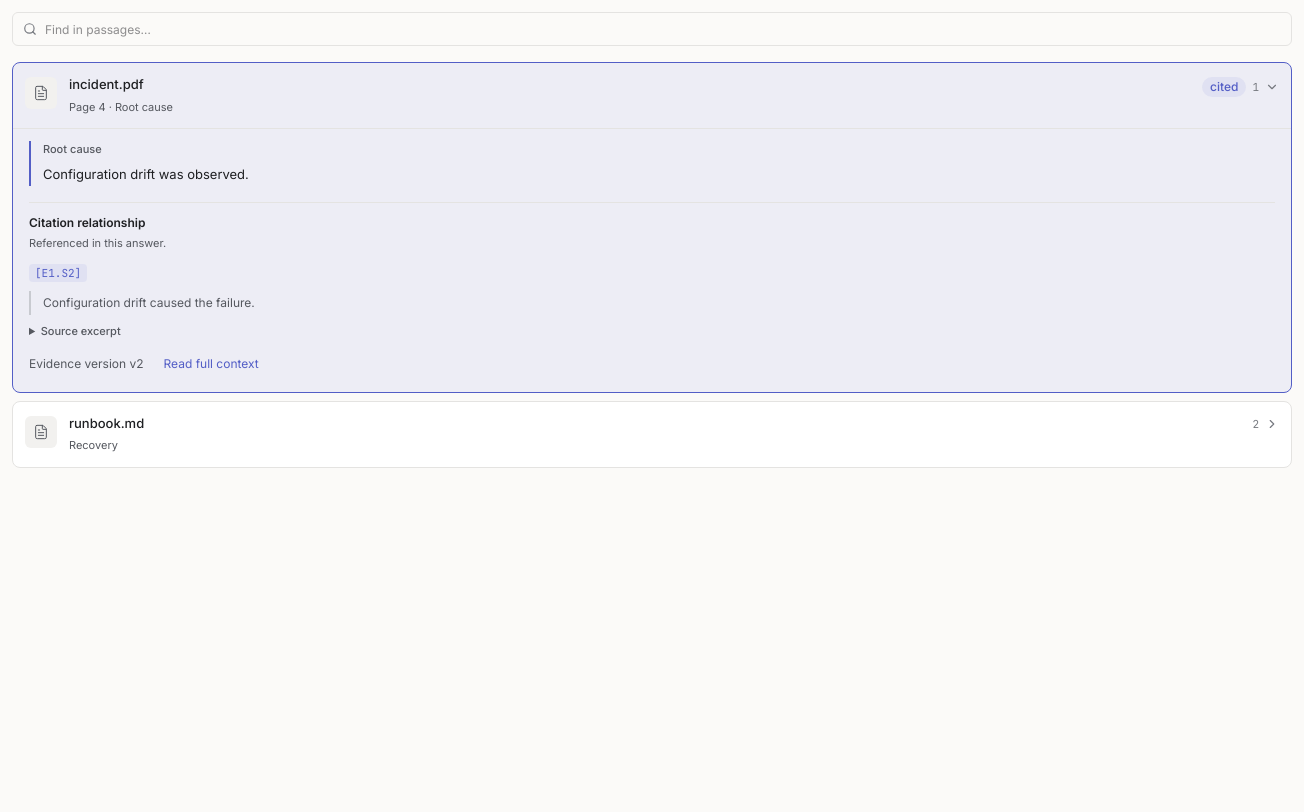
Test: Research evidence workbench › relates support-unit citations to their source without marking other retrieved evidence as cited
Expected: the element named "Citation relationship for source 1" shows "[E1.S2]", [35, 266, 81, 280]
Expected: the element named "Citation relationship for source 1" shows "Configuration drift caused the failure.", [43, 295, 255, 310]
Click the button with aria-label "View source 2: runbook.md": (41, 432) [13, 402, 1291, 467]
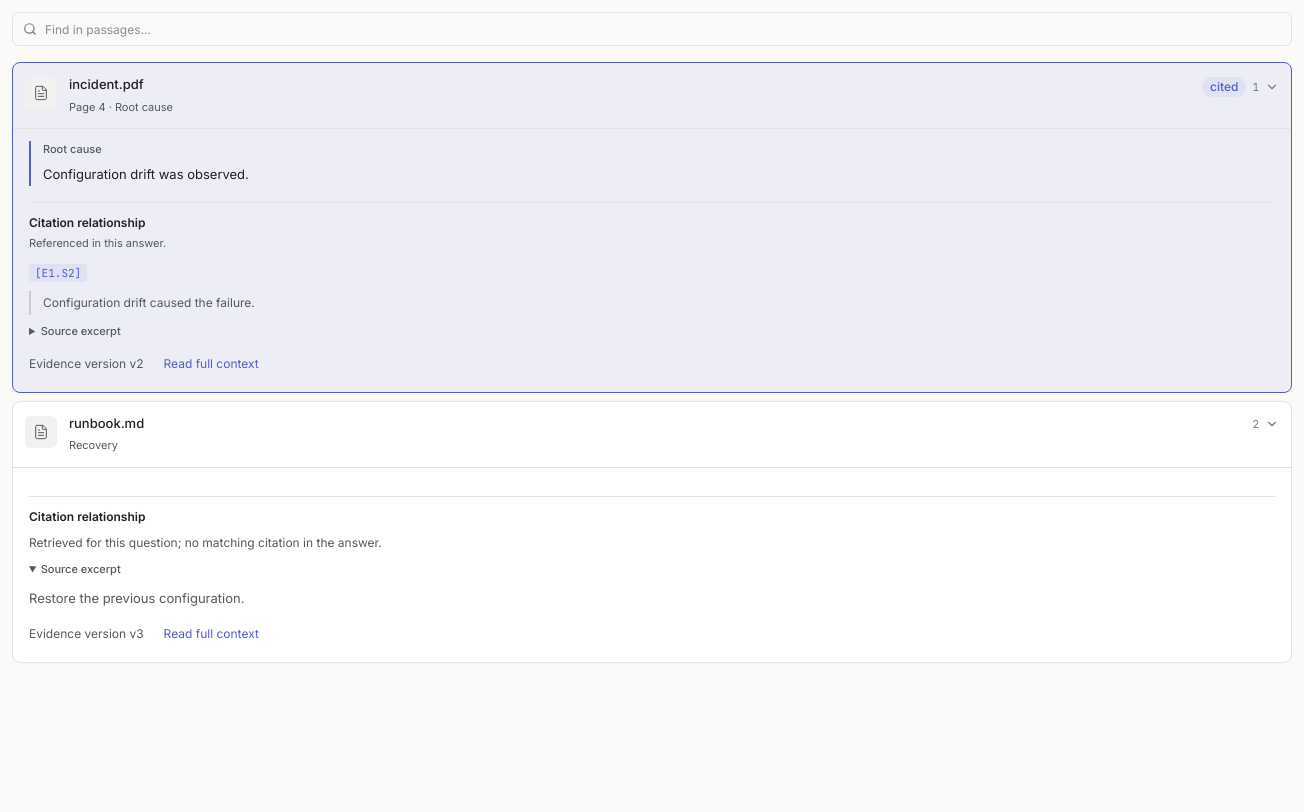
Expected: the element named "Citation relationship for source 2" shows "no matching citation", [29, 535, 382, 550]
